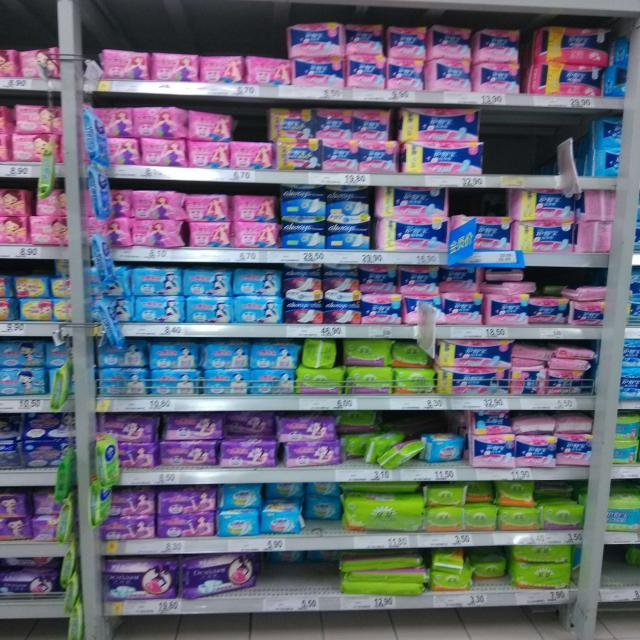void: (492, 110, 562, 175)
